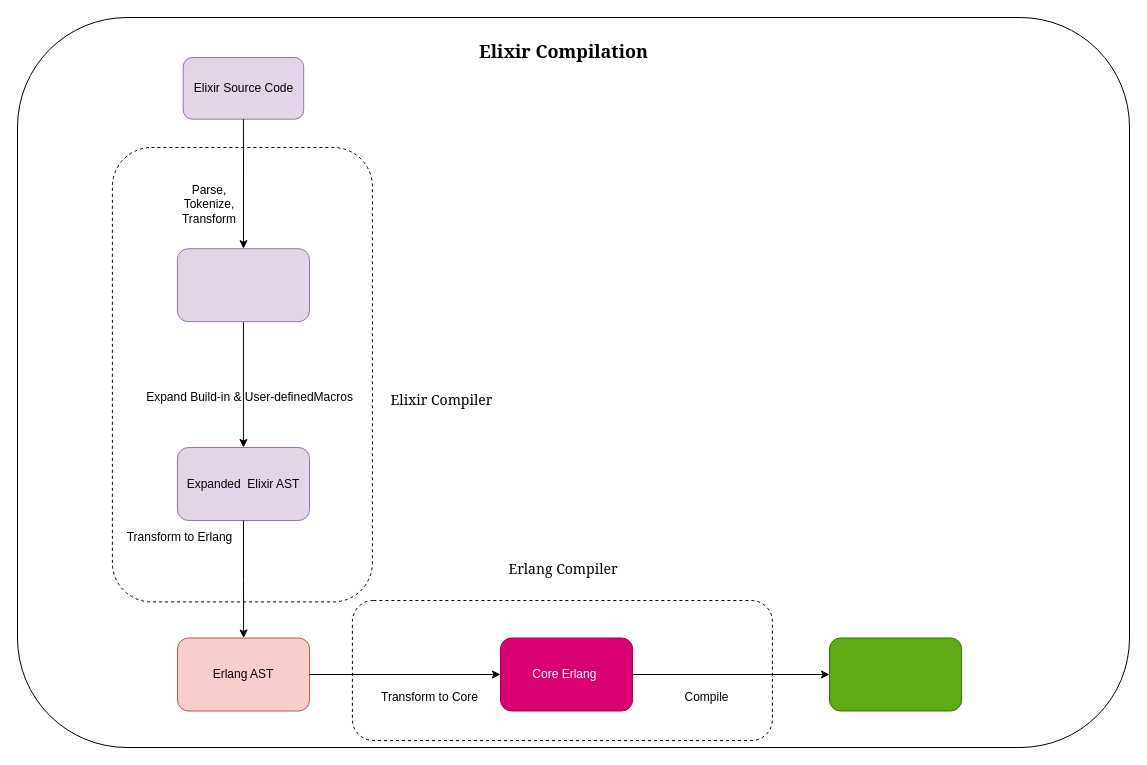
The diagram is 1147 pixels wide and 765 high, and some of its shapes have lost their labels. Here are the shapes that lost their labels. From the top down, the box of each, then its label:
(176, 248, 310, 322): Elixir AST
(828, 637, 962, 711): BEAM VM ByteCode
